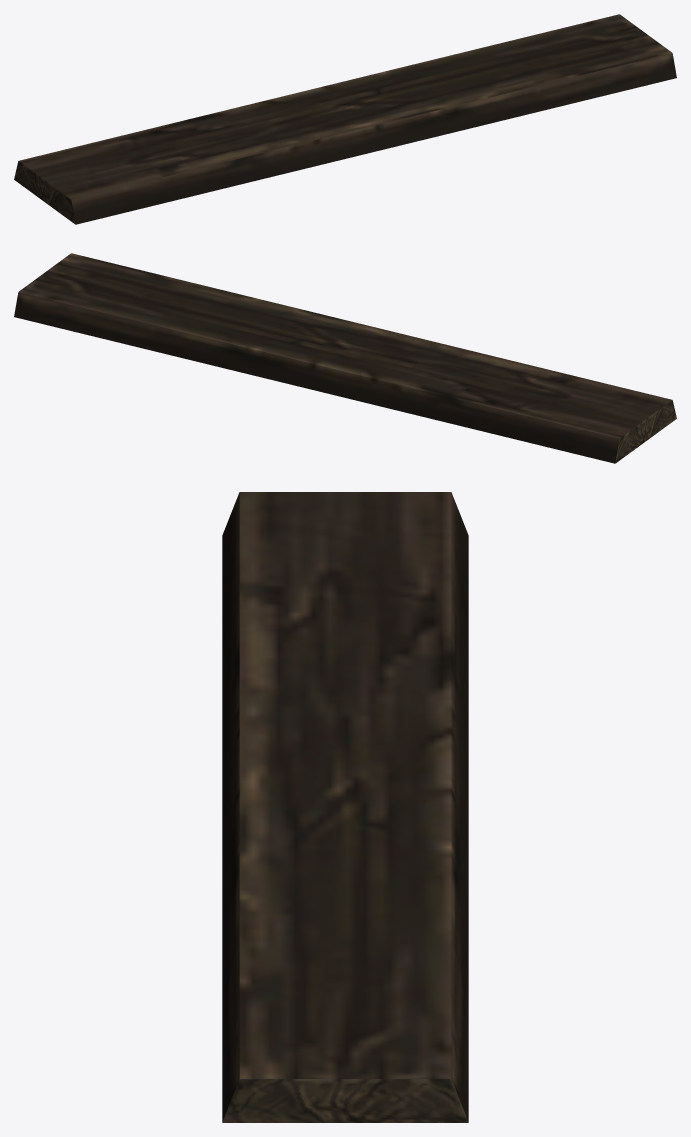
The model's file is B_mutiao003.fbx.
3 views of the same model, one above another, from view 1: azimuth 30°, elevation 25°; view 2: azimuth 150°, elevation 25°; view 3: azimuth 270°, elevation 25° (orthographic). The views are drawn at different scales.
Parts seen in each view (by area): view 1: B_mutiao003; view 2: B_mutiao003; view 3: B_mutiao003.
Boxes of the visible parts, x1,y1,x2,y2 form: B_mutiao003: (14, 14, 676, 224); B_mutiao003: (14, 253, 676, 463); B_mutiao003: (222, 492, 468, 1122).
Size of the model in its own units: 222 by 7.75 by 39.5.
